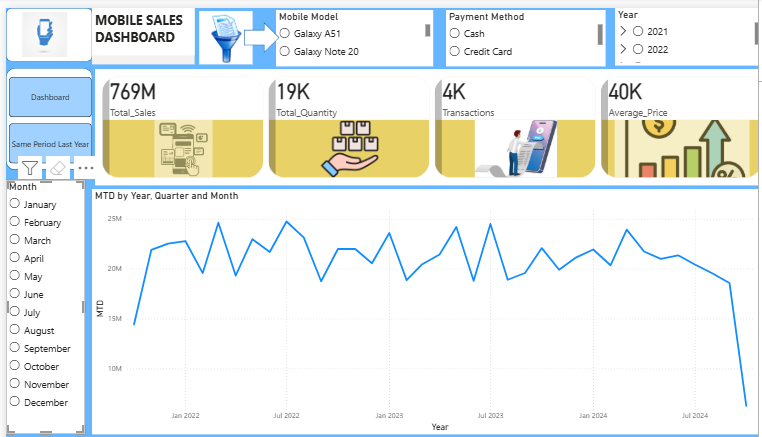

The page's visual inventory and layout, read from the dashboard file:
{"tool":"powerbi","page":{"name":"MTD Report","canvas":[1280,720],"ordinal":1},"visuals":[{"type":"shape","box":[0,0,144,89.3],"z":0},{"type":"image","box":[0,7.2,129.6,74.9],"z":1000},{"type":"shape","box":[0,99.4,144,169.9],"z":2000},{"type":"cardVisual","fields":{"Data":["Sales_Data.Total_Sales","Sales_Data.Total_Quantity","Sales_Data.Transactions","Sales_Data.Average_Price"]},"box":[144,96.5,1136.2,204.5],"z":3000},{"type":"listSlicer","fields":{"Values":["Sales_Data.Mobile Model"]},"box":[450.7,2.9,262.1,93.6],"z":4000},{"type":"listSlicer","fields":{"Values":["Sales_Data.Payment Method"]},"box":[733,2.9,266.4,93.6],"z":5000},{"type":"listSlicer","fields":{"Values":["Custom_Calender.Date.Variation.Date Hierarchy.Year","Custom_Calender.Date.Variation.Date Hierarchy.Quarter","Custom_Calender.Date.Variation.Date Hierarchy.Month","Custom_Calender.Date.Variation.Date Hierarchy.Day"]},"box":[1015.2,0,246.2,96.5],"z":6000},{"type":"image","box":[305.3,4.3,122.4,89.3],"z":7000},{"type":"shape","box":[397.4,23,59,51.8],"z":8000},{"type":"image","box":[144,0,171.4,93.6],"z":9000},{"type":"textbox","box":[144,0,171.4,79.2],"z":10000},{"type":"lineChart","fields":{"Y":["Sales_Data.MTD"],"Category":["Custom_Calender.Date.Variation.Date Hierarchy.Year","Custom_Calender.Date.Variation.Date Hierarchy.Quarter","Custom_Calender.Date.Variation.Date Hierarchy.Month","Custom_Calender.Date.Variation.Date Hierarchy.Day"]},"box":[144,301,1117.4,409],"z":11000},{"type":"listSlicer","fields":{"Values":["Custom_Calender.Date.Variation.Date Hierarchy.Month"]},"box":[0,286.6,131,423.4],"z":12000},{"type":"pageNavigator","box":[5.8,115.2,138.2,144],"z":13000}]}

Visuals, with their boxes on the page's 1280x720 design canvas (x1, y1, x2, y2). These are canvas units, not pixel positions in the 762x437 screenshot, which may show the page scaled, cropped or inside an application window:
shape: <region>0, 0, 144, 89</region>
image: <region>0, 7, 130, 82</region>
shape: <region>0, 99, 144, 269</region>
cardVisual - Sales_Data.Total_Sales x Sales_Data.Total_Quantity: <region>144, 96, 1280, 301</region>
listSlicer - Sales_Data.Mobile Model: <region>451, 3, 713, 96</region>
listSlicer - Sales_Data.Payment Method: <region>733, 3, 999, 96</region>
listSlicer - Custom_Calender.Date.Variation.Date Hierarchy.Year x Custom_Calender.Date.Variation.Date Hierarchy.Quarter: <region>1015, 0, 1261, 96</region>
image: <region>305, 4, 428, 94</region>
shape: <region>397, 23, 456, 75</region>
image: <region>144, 0, 315, 94</region>
textbox: <region>144, 0, 315, 79</region>
lineChart - Sales_Data.MTD x Custom_Calender.Date.Variation.Date Hierarchy.Year: <region>144, 301, 1261, 710</region>
listSlicer - Custom_Calender.Date.Variation.Date Hierarchy.Month: <region>0, 287, 131, 710</region>
pageNavigator: <region>6, 115, 144, 259</region>
